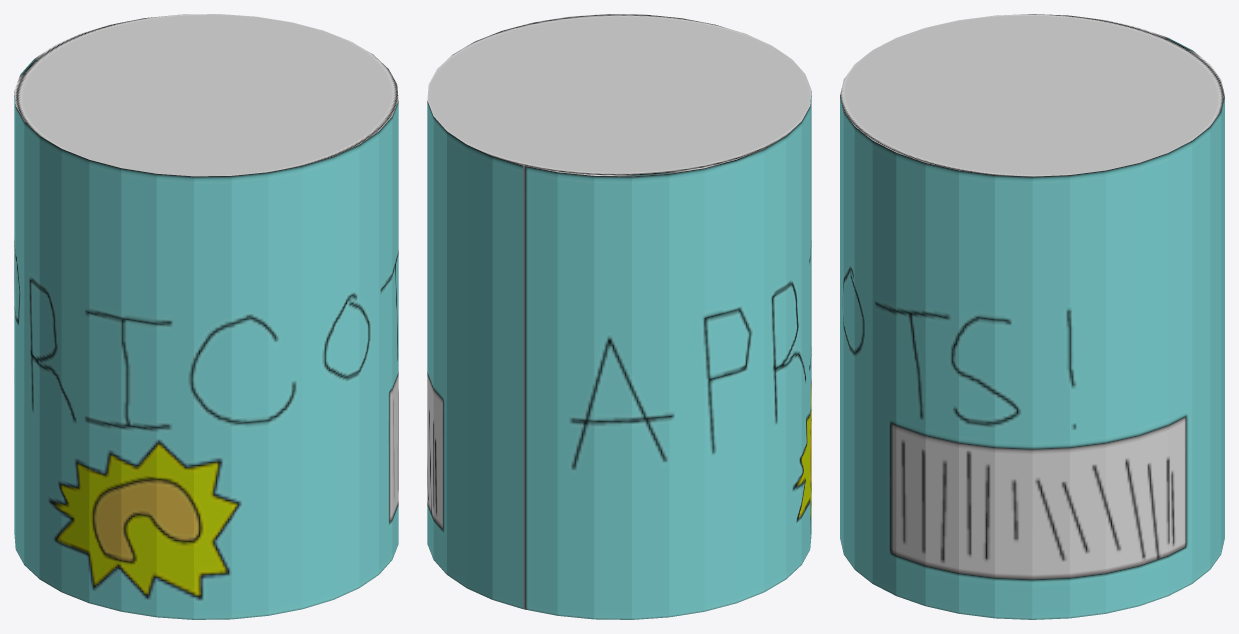
File: apricots.fbx
3 views of the same model, side by side, from view 1: azimuth 30°, elevation 25°; view 2: azimuth 150°, elevation 25°; view 3: azimuth 270°, elevation 25° (orthographic).
Visible parts, largest first — view 1: Cylinder; view 2: Cylinder; view 3: Cylinder.
Part boxes in pixels (x1,y1,x2,y2): Cylinder: [14, 14, 398, 619]; Cylinder: [427, 14, 811, 619]; Cylinder: [840, 14, 1224, 619].
Bounding box in the file's own units: 118 × 149 × 118.
